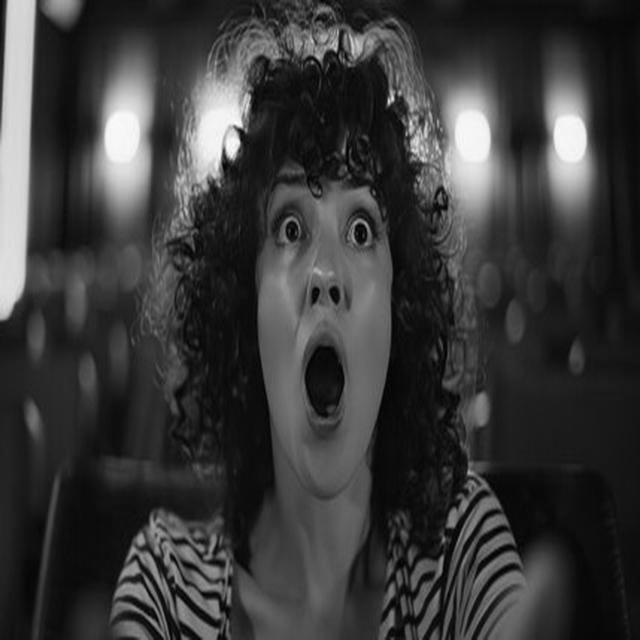Fear: (261, 140, 392, 500)
